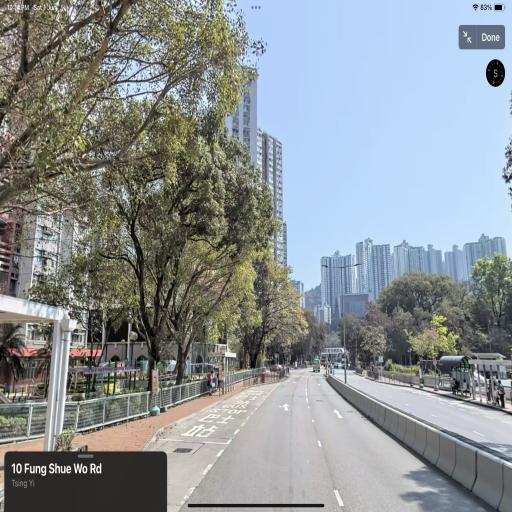Roads: (166, 372, 512, 512)
Trees: (142, 156, 248, 370), (163, 246, 277, 360), (360, 280, 500, 368), (249, 269, 328, 386), (146, 172, 148, 209)
